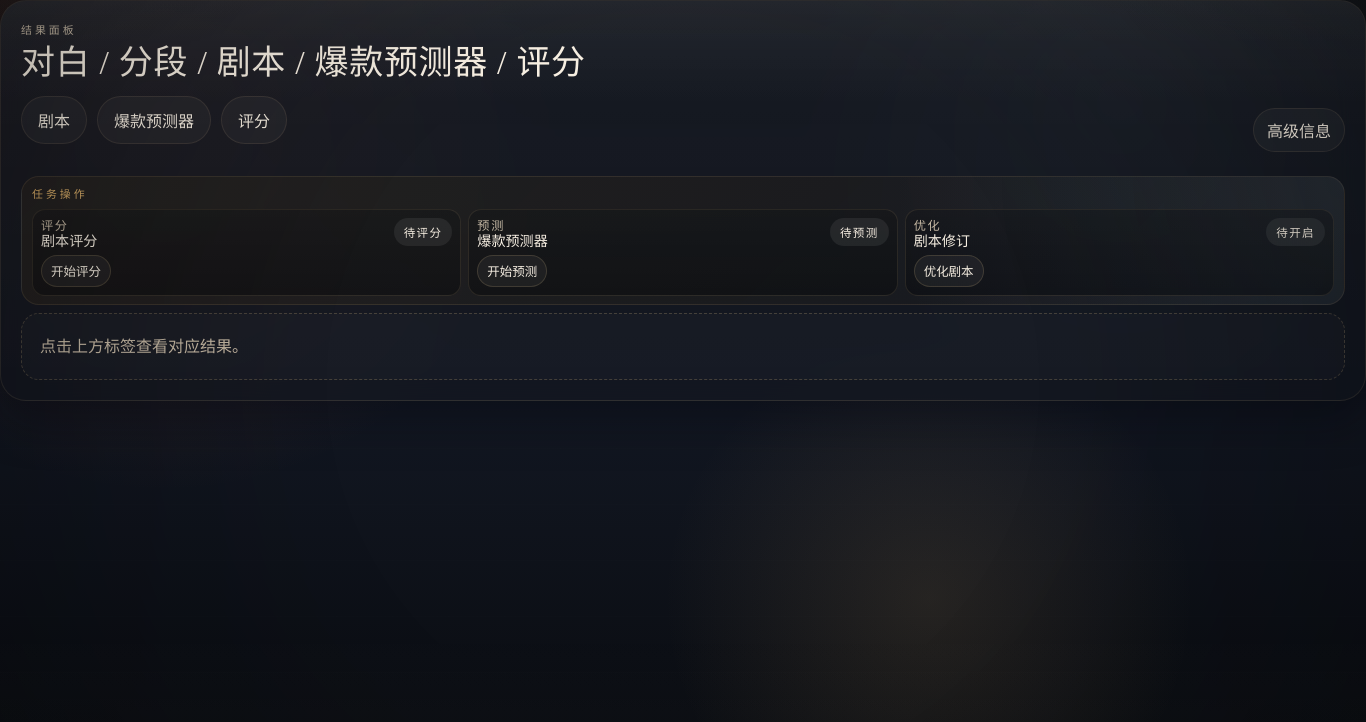
Scenario: keeps script version buttons visible and disables original view when original script is missing
This screenshot has width=1366, height=722.
What coordinates should you click on to do the following:
click the tab "剧本"
I would click on:
 (54, 120)
Its box is top-left (21, 96), bottom-right (87, 144).
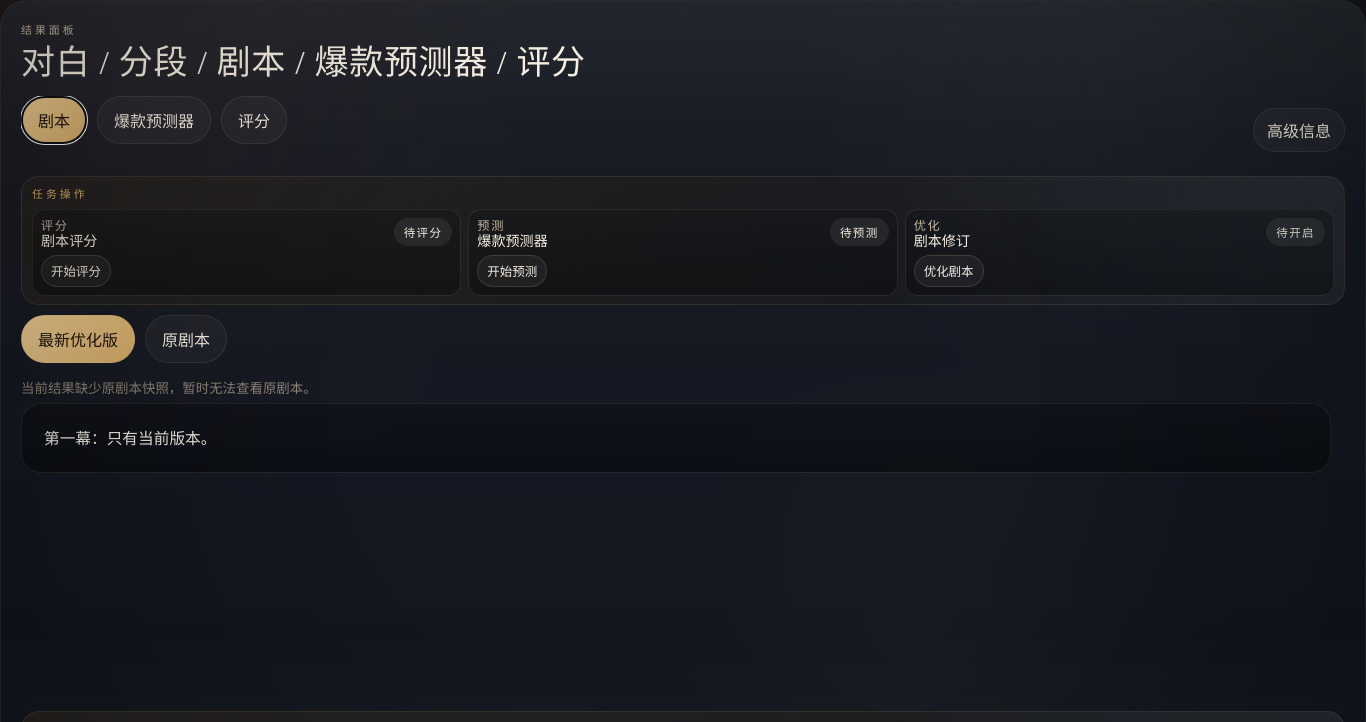
Expected: the button "最新优化版" is shown, top-left (21, 315), bottom-right (135, 363)
Expected: the button "原剧本" is disabled, top-left (145, 315), bottom-right (227, 363)
Expected: the text "当前结果缺少原剧本快照，暂时无法查看原剧本。" is shown, top-left (21, 379), bottom-right (317, 397)
